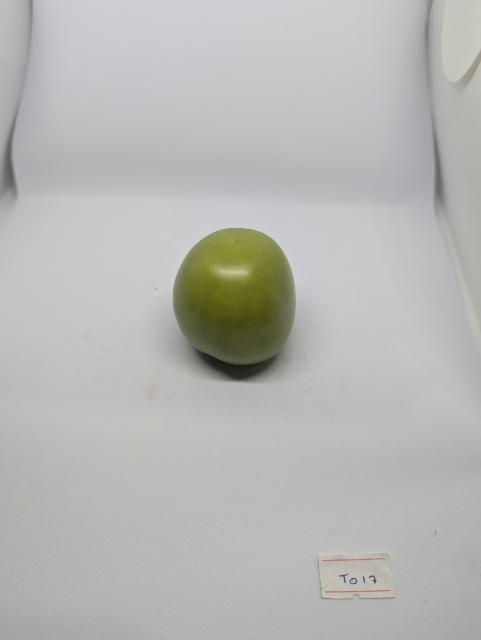green: (171, 227, 300, 368)
